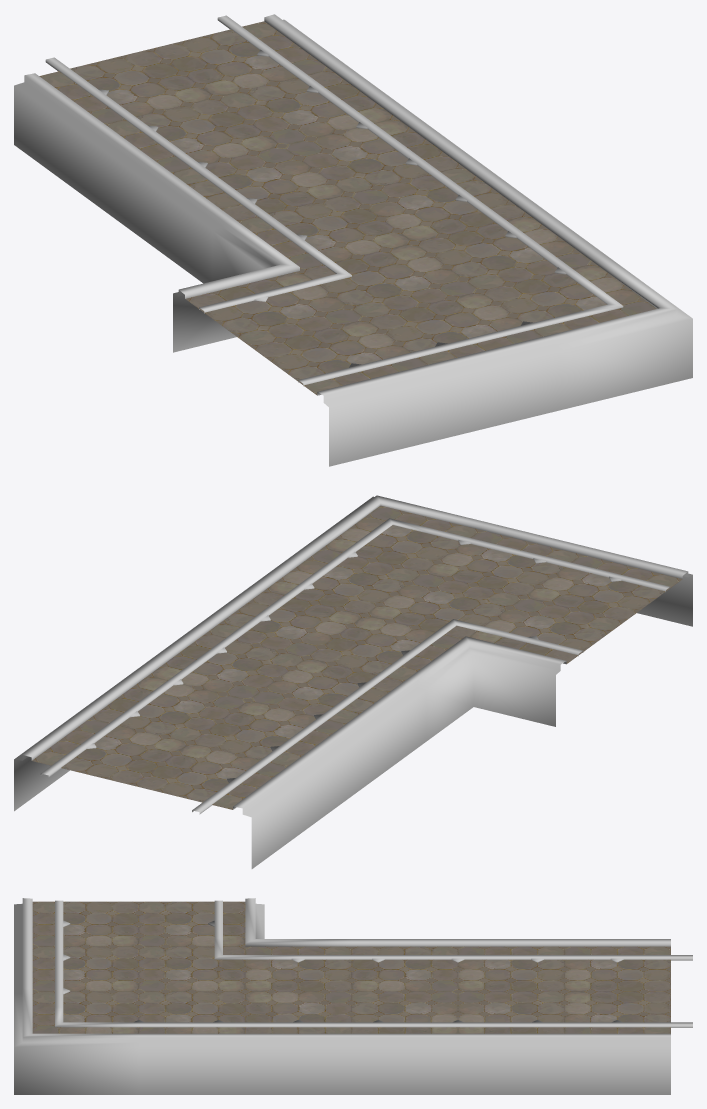
File: t_pngtai06.FBX
3 renders of one model, top to bottom at view 1: azimuth 30°, elevation 25°; view 2: azimuth 150°, elevation 25°; view 3: azimuth 270°, elevation 25°, orthographic. The views are drawn at different scales.
Visible parts, largest first — view 1: t_pngtai06_dimian, t_pngtai06_qiang; view 2: t_pngtai06_dimian, t_pngtai06_qiang; view 3: t_pngtai06_dimian, t_pngtai06_qiang.
Part boxes in pixels (bbox=[...]): t_pngtai06_dimian: bbox=[39, 21, 656, 395]; t_pngtai06_qiang: bbox=[14, 14, 692, 466]; t_pngtai06_dimian: bbox=[32, 505, 682, 809]; t_pngtai06_qiang: bbox=[14, 495, 692, 868]; t_pngtai06_dimian: bbox=[32, 901, 670, 1033]; t_pngtai06_qiang: bbox=[14, 898, 692, 1094].
Size of the model in its own units: 1917 by 338 by 3853.
